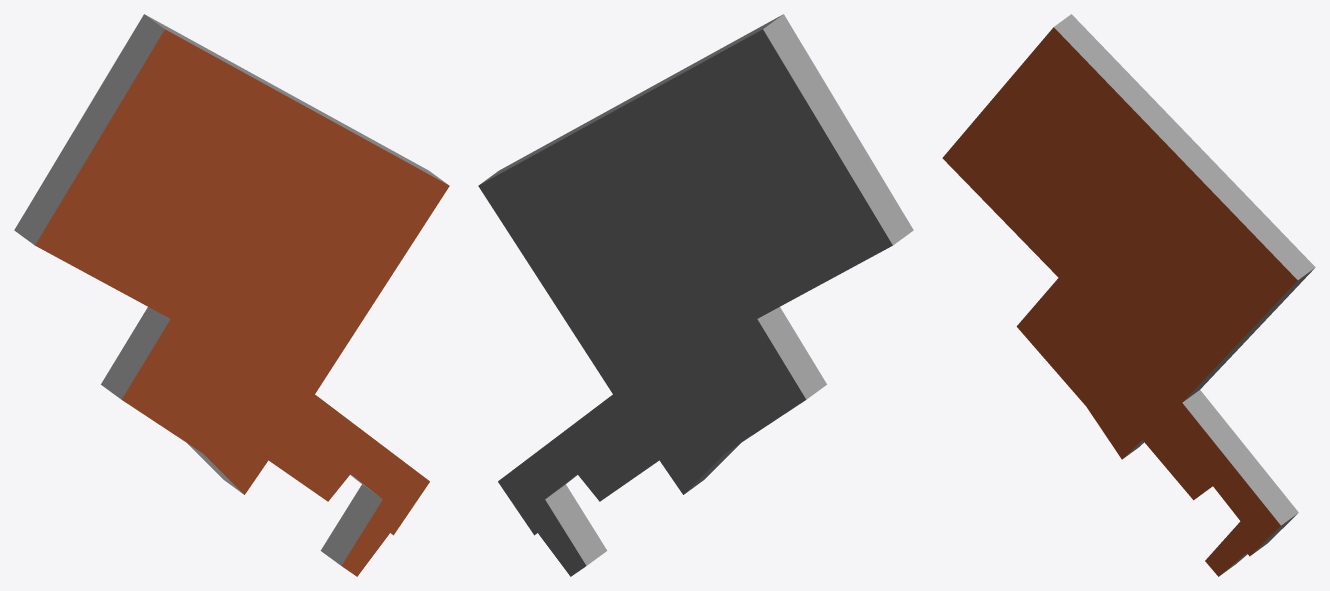
Rendered from construction_3067_assumed_A_Casa_h6m.obj.
The picture shows the model from 3 angles, left to right: view 1: azimuth 30°, elevation 25°; view 2: azimuth 150°, elevation 25°; view 3: azimuth 330°, elevation 25°; orthographic projection. The views are drawn at different scales.
Visible parts, largest first — view 1: construction_3067_assumed_A_Casa; view 2: construction_3067_assumed_A_Casa; view 3: construction_3067_assumed_A_Casa.
Part boxes in pixels (x1,y1,x2,y2): construction_3067_assumed_A_Casa: (14,14,449,576); construction_3067_assumed_A_Casa: (478,14,913,576); construction_3067_assumed_A_Casa: (942,14,1315,576).
Bounding box in the file's own units: 69.03 × 94.55 × 6.
